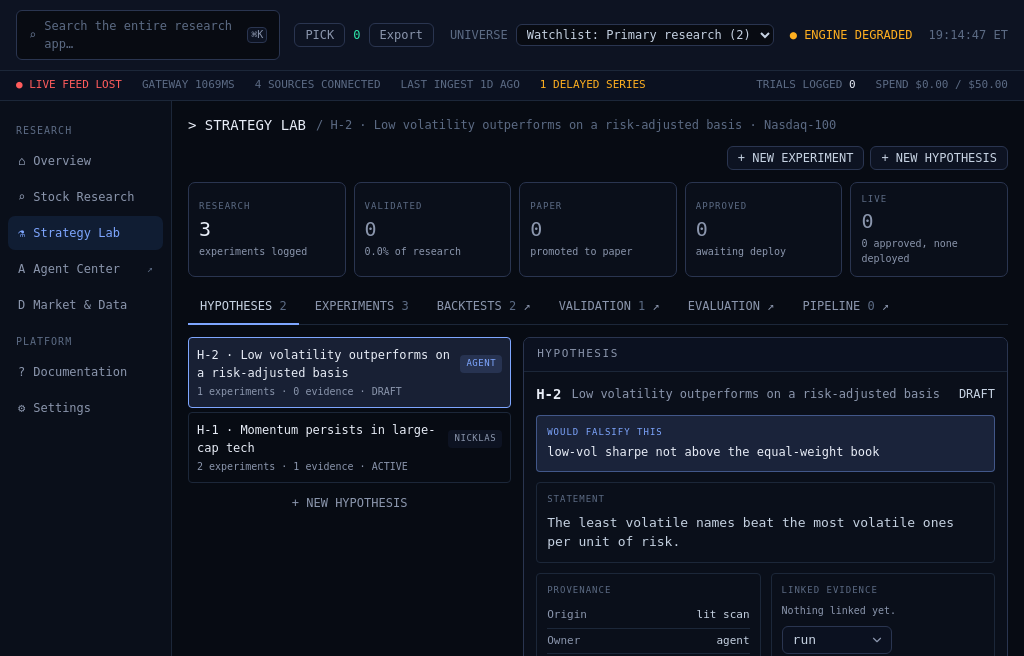
Test: hypotheses › lists hypotheses and opens one from the list into the URL
Expected: the button "H-2" shows "agent", x1=188 y1=337 x2=511 y2=408
Expected: the text "low-vol sharpe not above the equal-weight book" is shown, x1=547 y1=445 x2=880 y2=459
What coordinates should you click on to do the following:
click the button that starts with "H-1"
I would click on:
 (338, 430)
Its box is x1=188 y1=412 x2=511 y2=483.
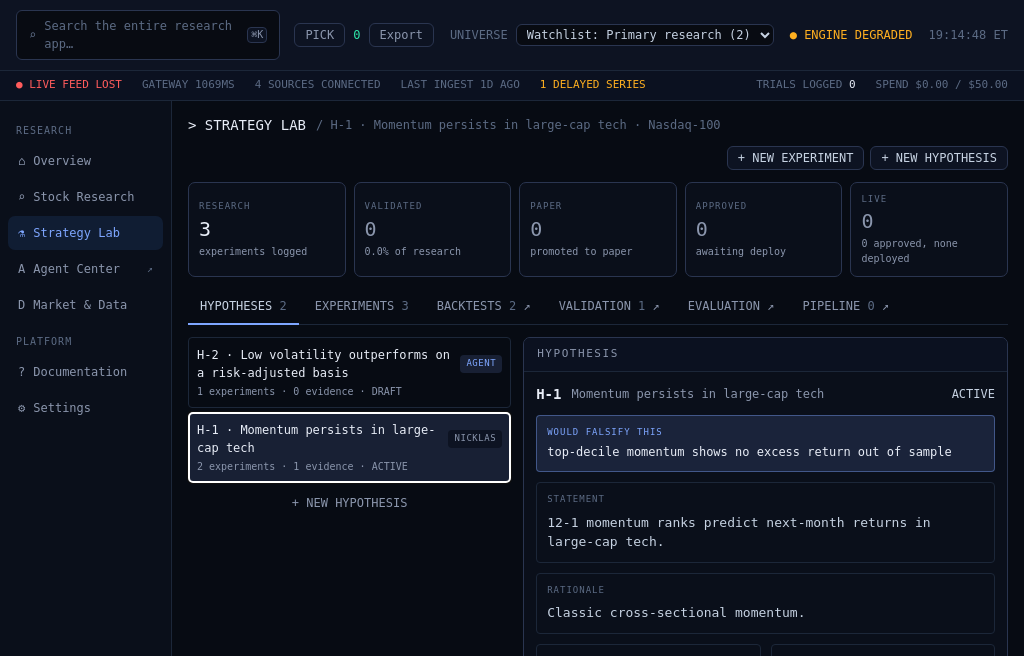
Expected: the text "top-decile momentum shows no excess return out of sample" is shown, x1=547 y1=445 x2=952 y2=459
Expected: the text "Classic cross-sectional momentum." is shown, x1=547 y1=605 x2=806 y2=620
Expected: the text named "Breadcrumb" shows "/ H-1 · Momentum persists in large-cap tech", x1=316 y1=116 x2=721 y2=134
